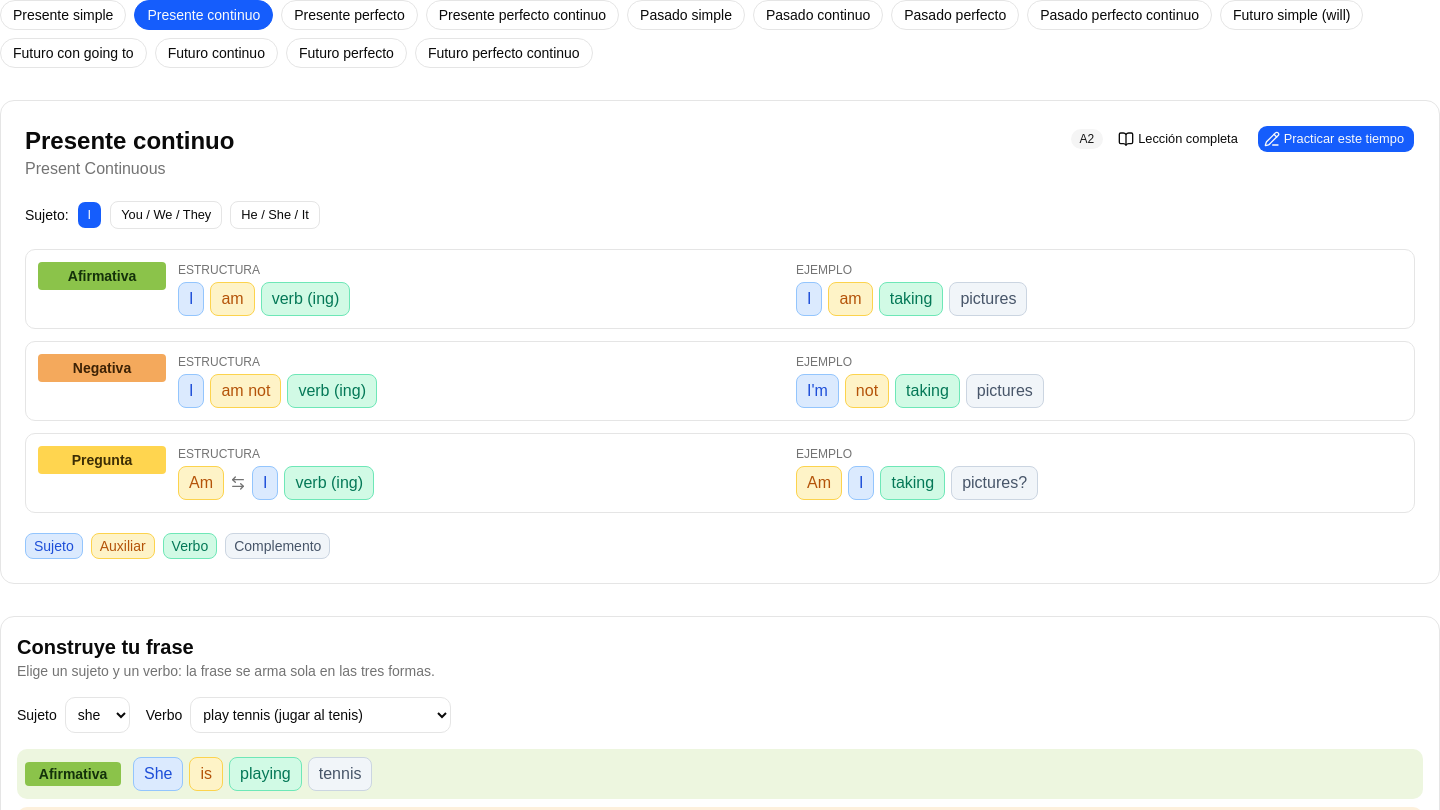
Test: TenseLab › muestra estructura y ejemplo del primer sujeto y cambia al elegir otro
Expected: the heading "Presente continuo" is shown, [25,125,234,157]
Expected: the 1st text "taking" is shown, [879,282,943,316]
Click the button "He / She / It" at x=275, y=215, box [230,201,320,229]
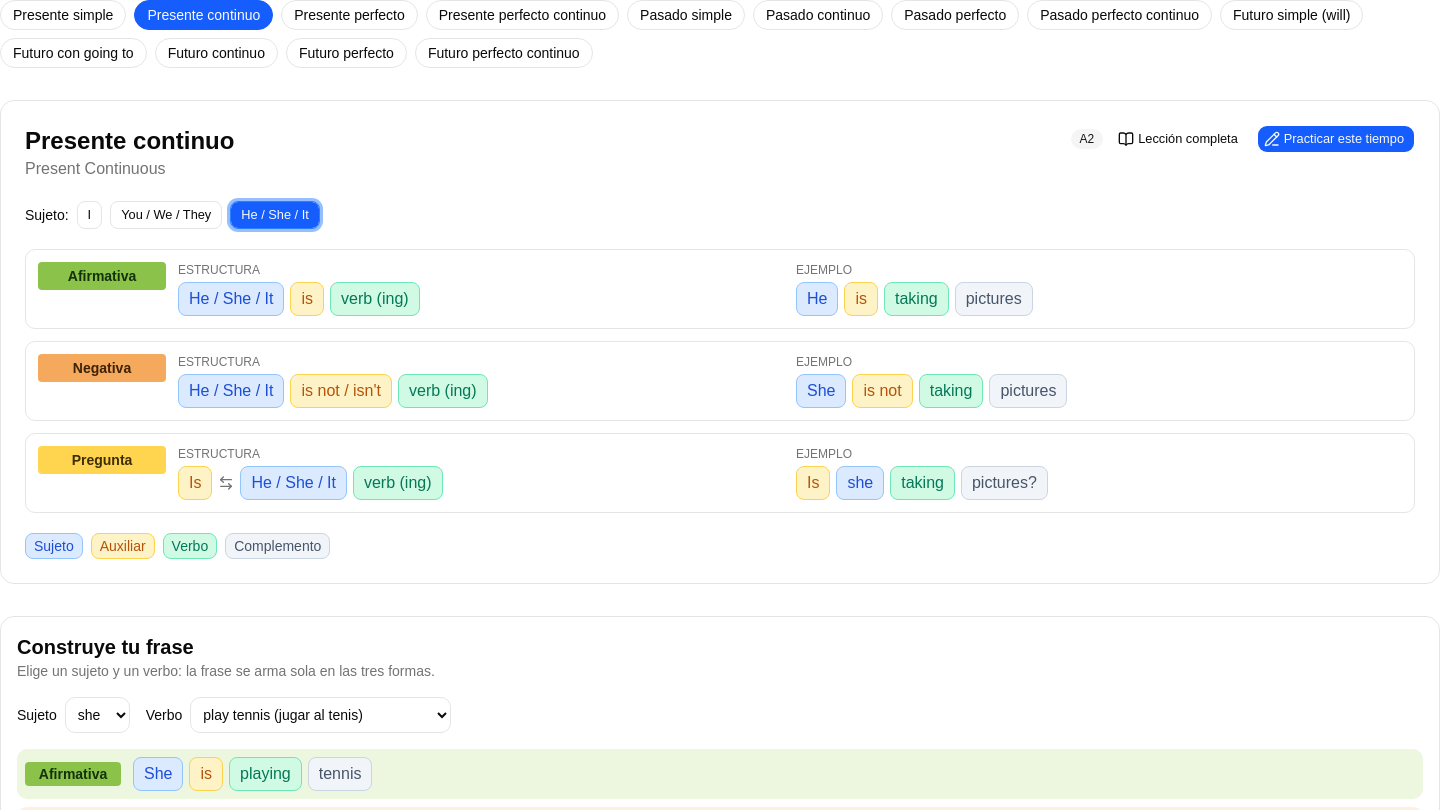
Expected: the text "is not / isn't" is shown, [290,374,392,408]
